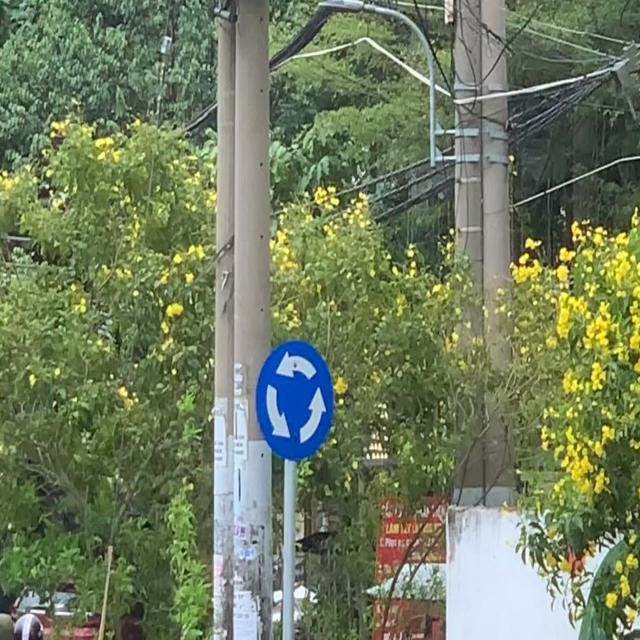Vong xuyen: (258, 341, 337, 460)
